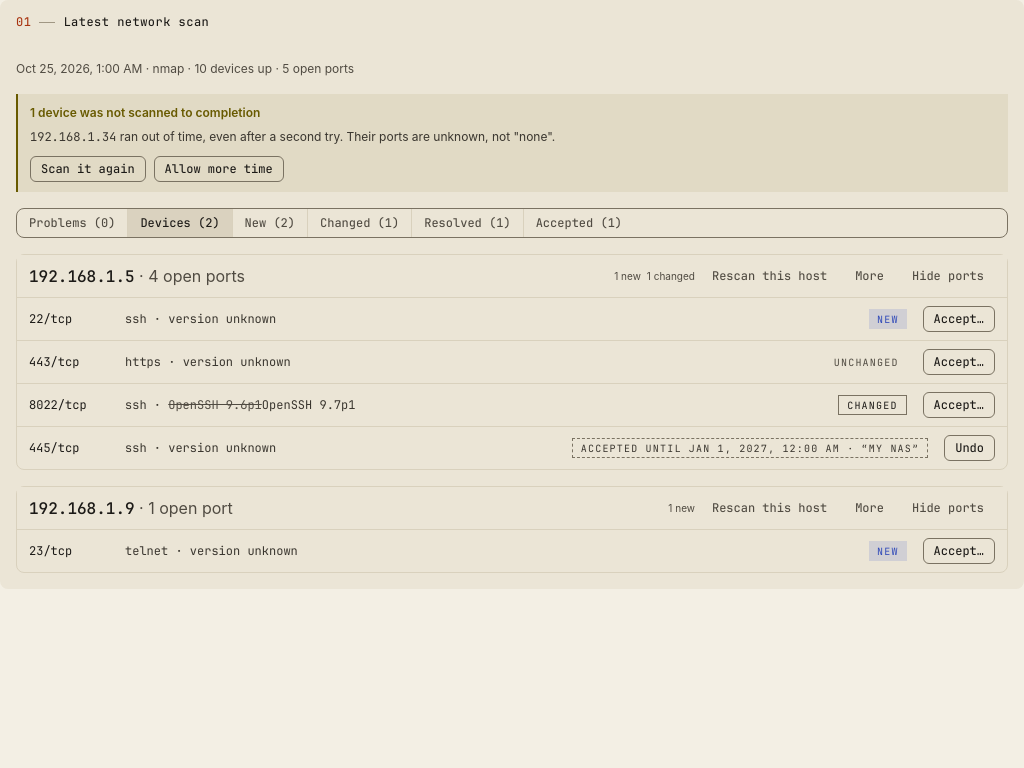
Test case: FindingsReport › shows one part of the report from its pill, and what resolved
This screenshot has width=1024, height=768.
Click the radio button labelled "Changed (1)" at point(359, 223), box left=307, top=209, right=411, bottom=237
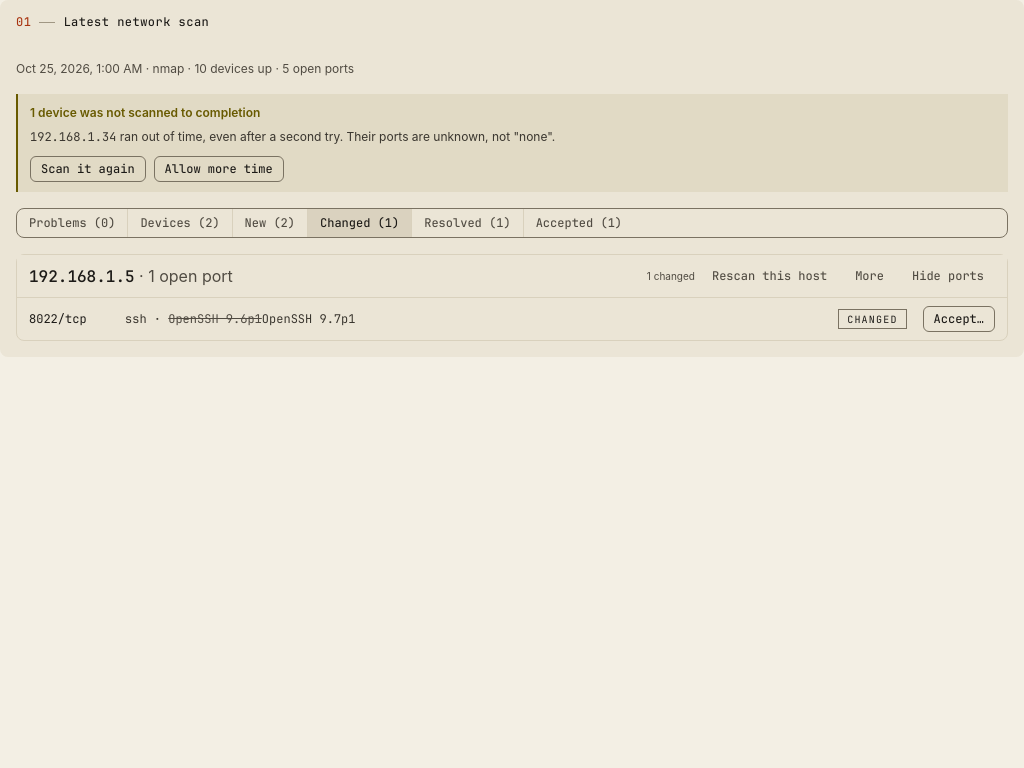
Click the radio button labelled "Resolved (1)" at point(467, 223), box left=411, top=209, right=523, bottom=237
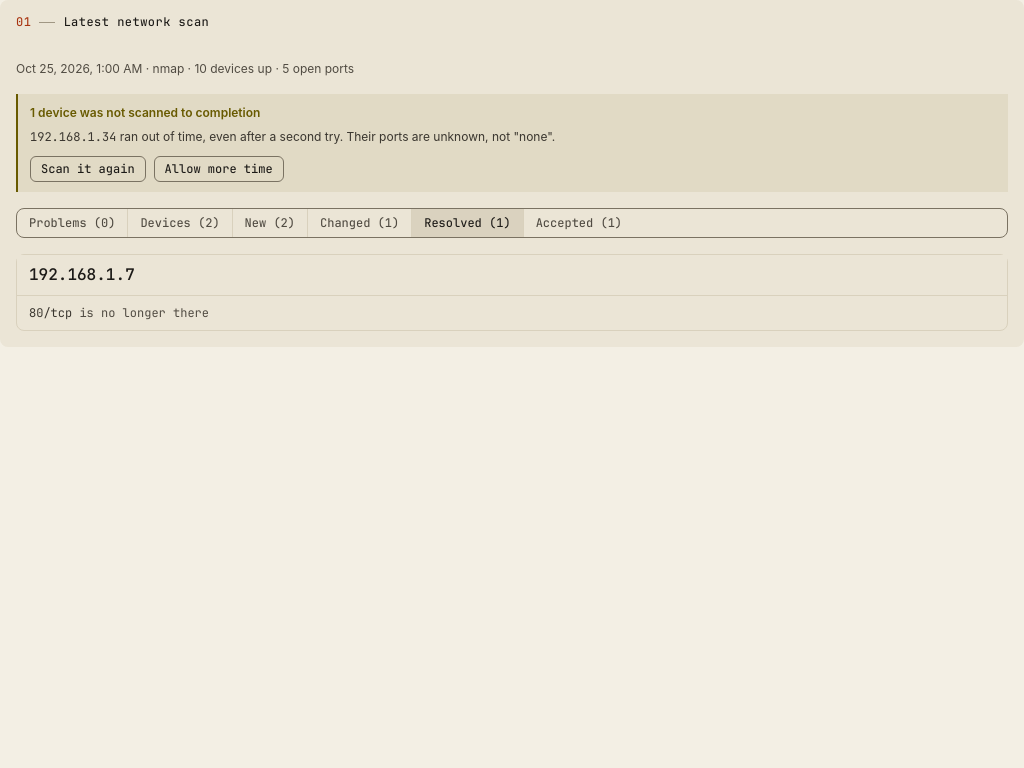
Expected: the text "is no longer there" is shown, left=79, top=305, right=209, bottom=321
Expected: the text "192.168.1.7" is shown, left=17, top=255, right=1007, bottom=295
